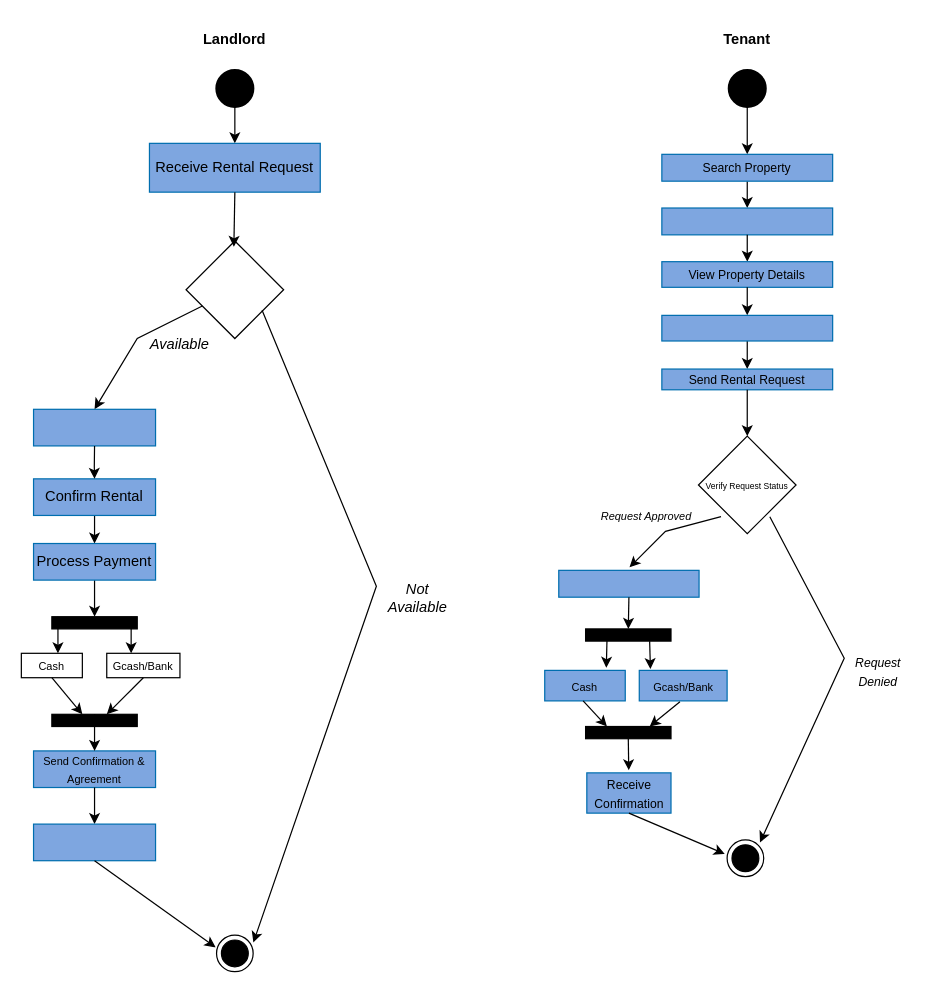
This 932x993 diagram has some shape labels left out. Each missing label, with the centre of its shape:
"Apply Filters" belongs at (747,221).
"Hand Over Keys" belongs at (94,842).
"Message Landlord" belongs at (747,327).
"Message Tenant" belongs at (94,427).
"Proceed Payment" belongs at (628,583).
"Verify Availability" belongs at (234,289).
